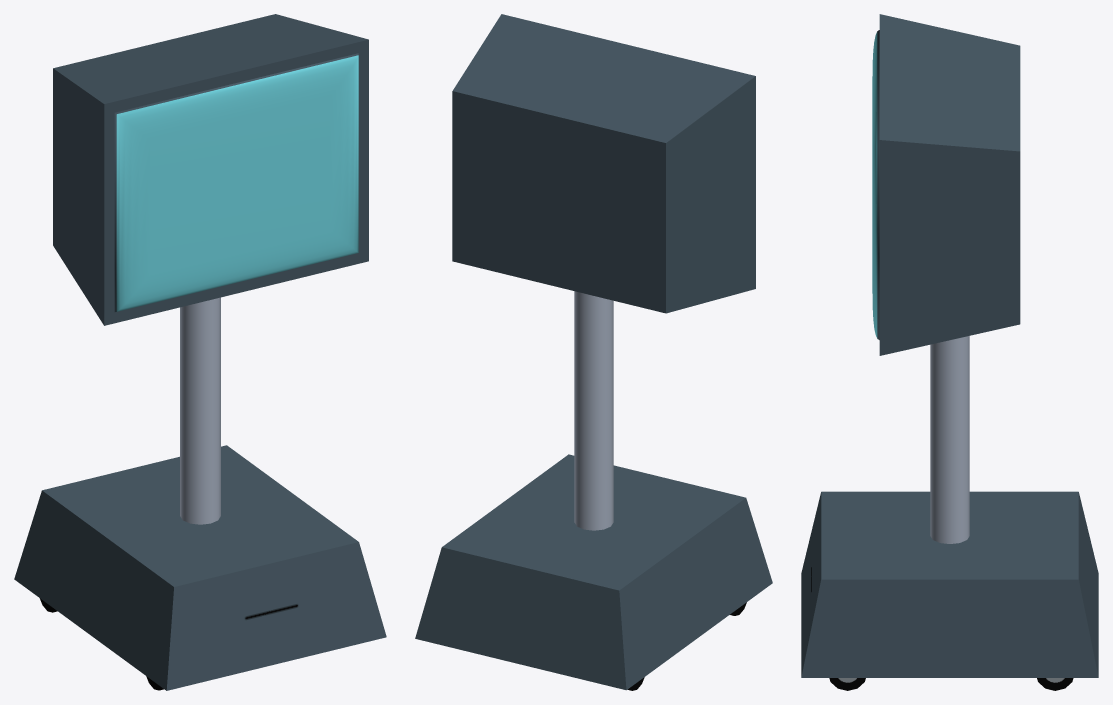
The model's file is character.FBX.
3 renders of one model, left to right at view 1: azimuth 30°, elevation 25°; view 2: azimuth 150°, elevation 25°; view 3: azimuth 270°, elevation 25°, orthographic. The views are drawn at different scales.
Parts seen in each view (by area): view 1: Box003, Box004, Cylinder009; view 2: Box003, Box004, Cylinder009; view 3: Box004, Box003, Cylinder009.
Boxes of the visible parts, <box> form: Box003: <box>53,14,368,325</box>; Box004: <box>14,445,386,690</box>; Cylinder009: <box>180,297,220,524</box>; Box003: <box>452,14,755,313</box>; Box004: <box>415,454,772,690</box>; Cylinder009: <box>574,291,613,530</box>; Box004: <box>801,491,1098,677</box>; Box003: <box>872,14,1020,355</box>; Cylinder009: <box>930,336,969,543</box>.
Bounding box in the file's own units: 12.07 × 25.32 × 12.04.
